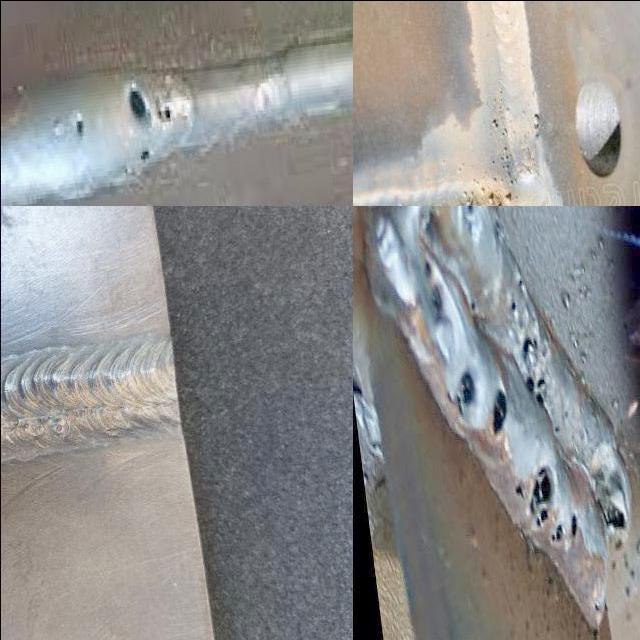defect: (508, 464, 584, 550), (451, 145, 516, 205), (591, 463, 629, 536), (123, 80, 173, 125), (446, 366, 477, 422), (487, 383, 509, 449), (523, 371, 548, 411), (134, 139, 156, 177), (70, 109, 90, 142), (520, 329, 539, 363), (529, 103, 542, 147), (430, 281, 445, 316), (488, 115, 509, 140), (26, 414, 44, 440), (51, 415, 68, 440), (492, 216, 502, 241), (422, 257, 432, 278), (593, 595, 601, 615), (551, 423, 561, 439), (465, 205, 476, 219), (560, 409, 568, 427), (468, 298, 476, 312), (510, 298, 516, 315), (518, 278, 522, 288)
